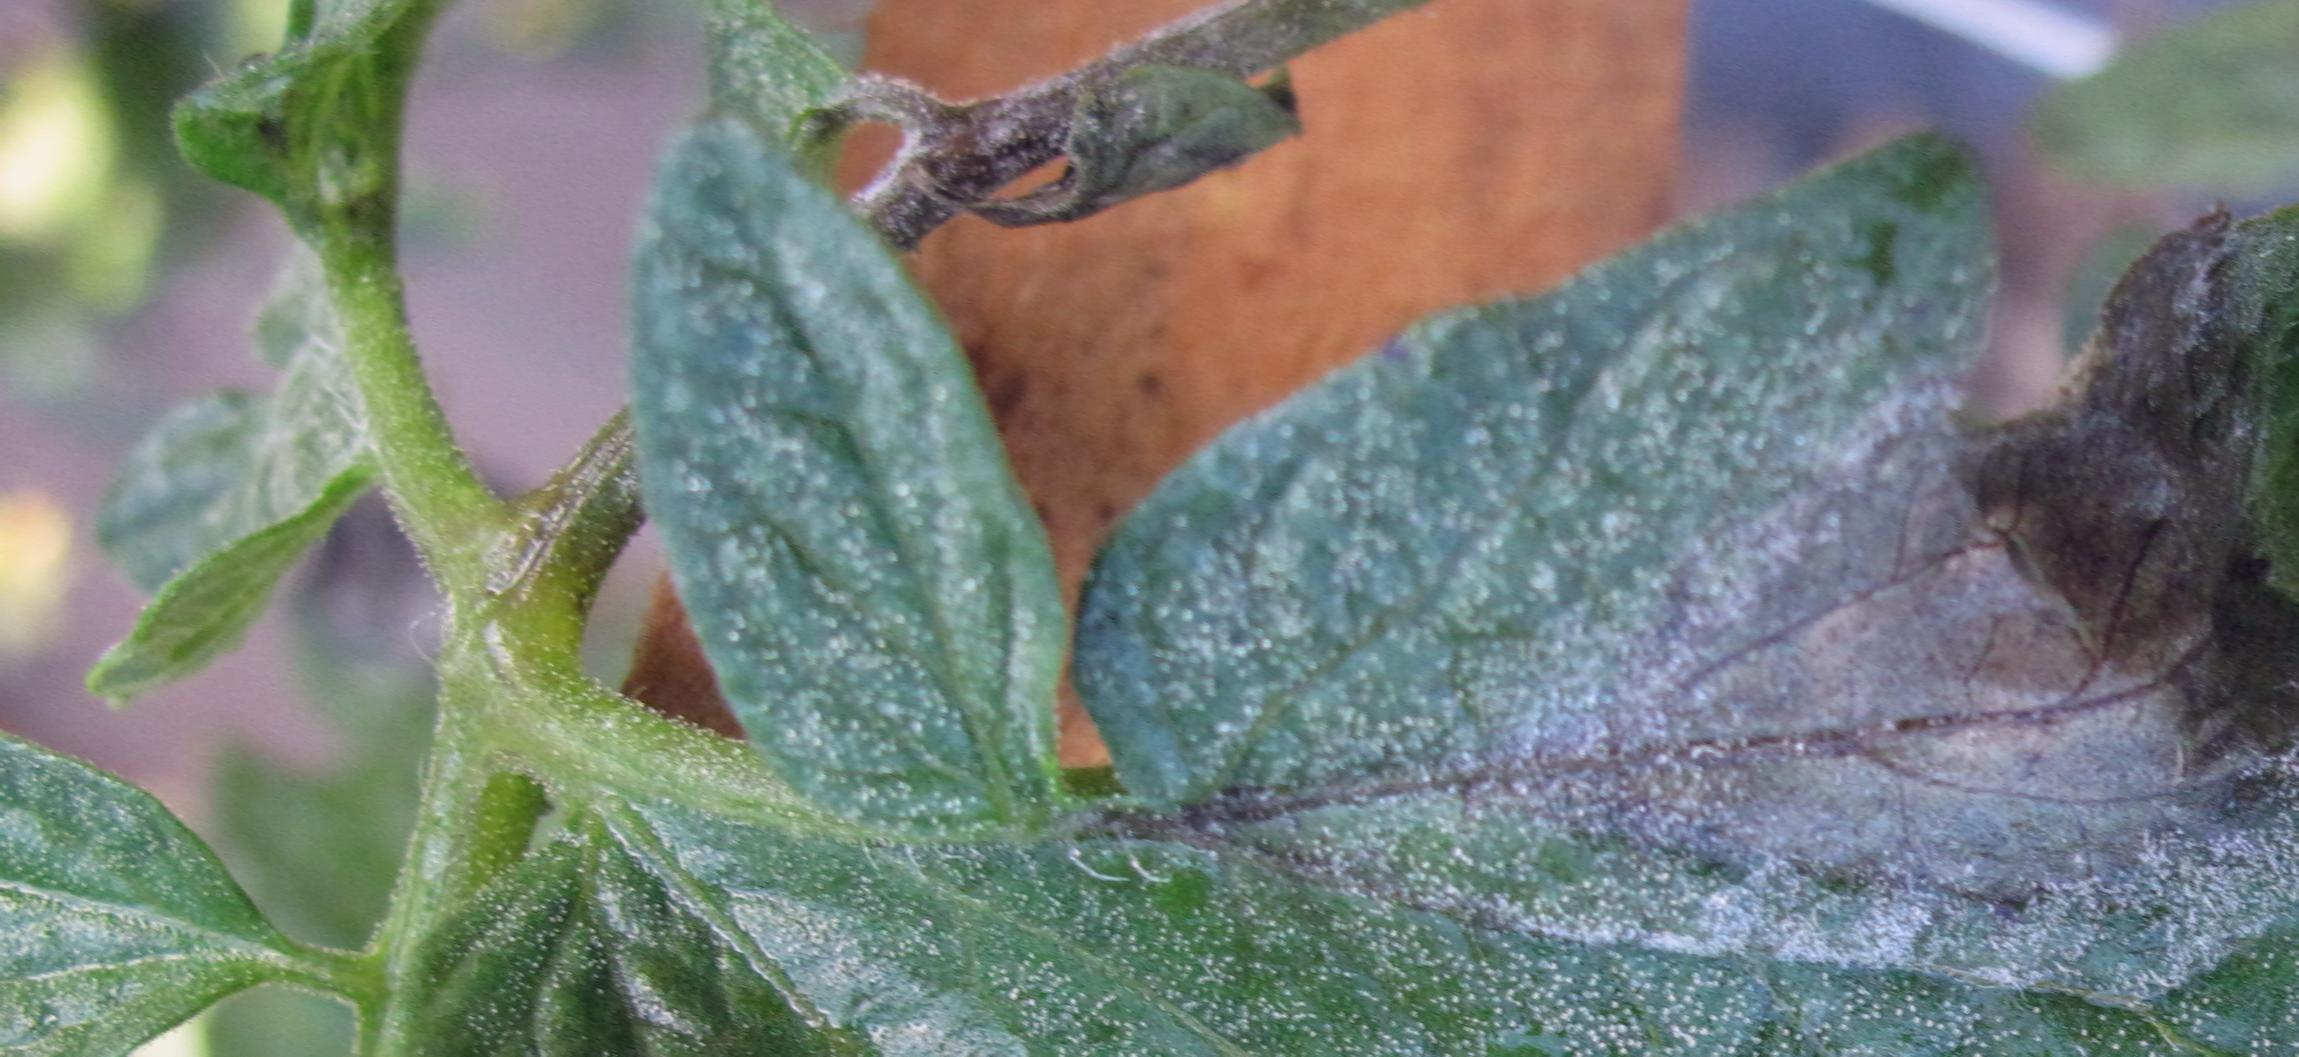Tomato leaf late blight: (242, 0, 2299, 1057)
